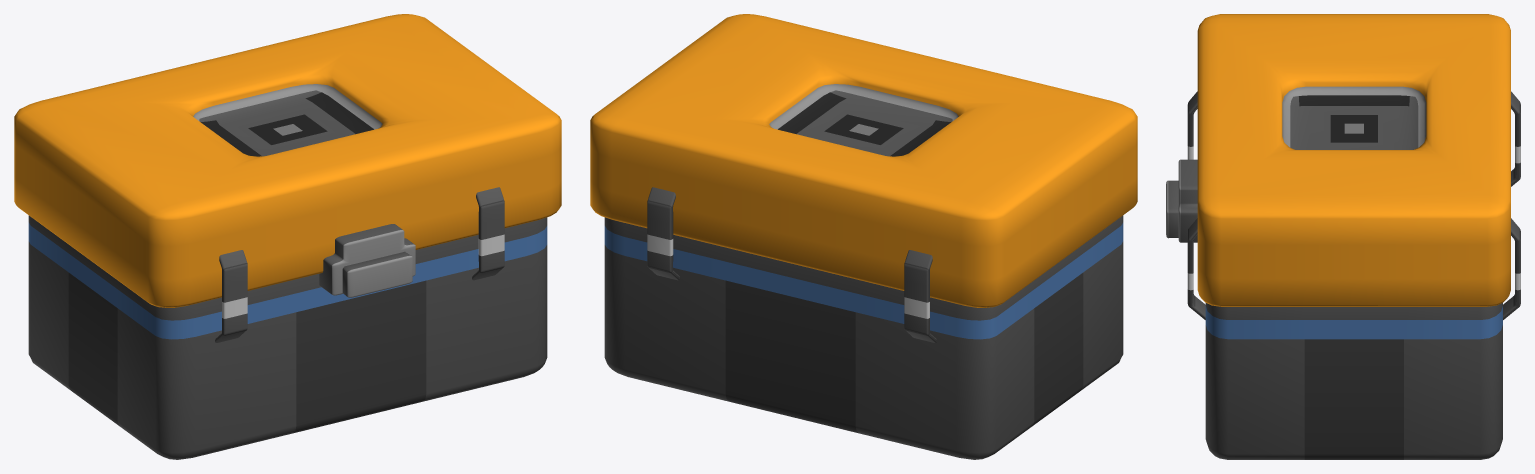
The picture shows the model from 3 angles, left to right: view 1: azimuth 30°, elevation 25°; view 2: azimuth 150°, elevation 25°; view 3: azimuth 270°, elevation 25°; orthographic projection.
Parts seen in each view (by area): view 1: MDL_Box; view 2: MDL_Box; view 3: MDL_Box.
Part boxes in pixels (x1=…): MDL_Box: x1=14, y1=14, x2=561, y2=459; MDL_Box: x1=590, y1=14, x2=1137, y2=459; MDL_Box: x1=1166, y1=14, x2=1520, y2=459.
Size of the model in its own units: 201 by 121 by 148.
